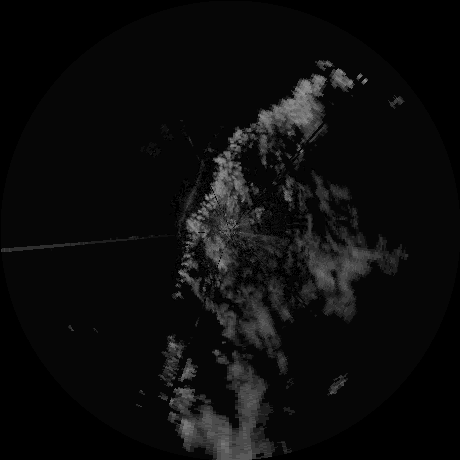frontgust: (186, 166, 204, 204)
